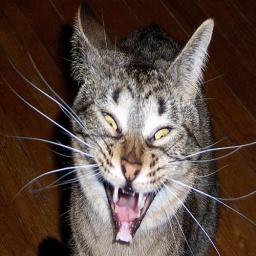catnose: (120, 159, 142, 182)
